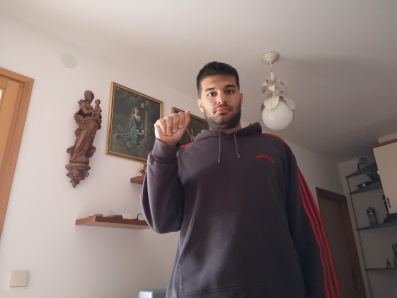A: (154, 108, 190, 143)
